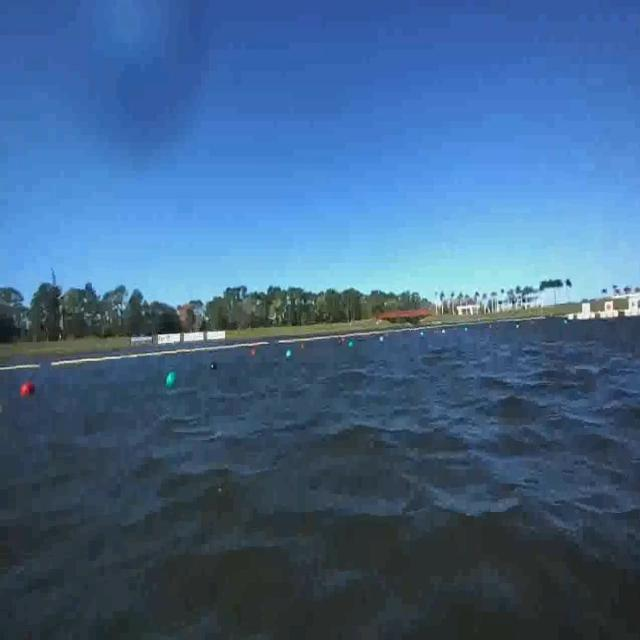green-buoy: (164, 370, 176, 386)
red-buoy: (23, 383, 36, 398)
